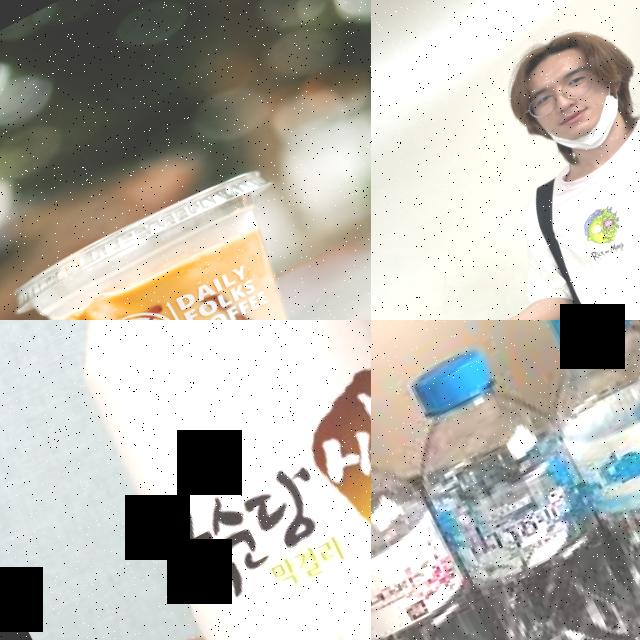bottle: (377, 326, 640, 640), (371, 394, 560, 640), (495, 320, 640, 640)
can: (21, 320, 371, 640)
cup: (1, 155, 365, 320)
